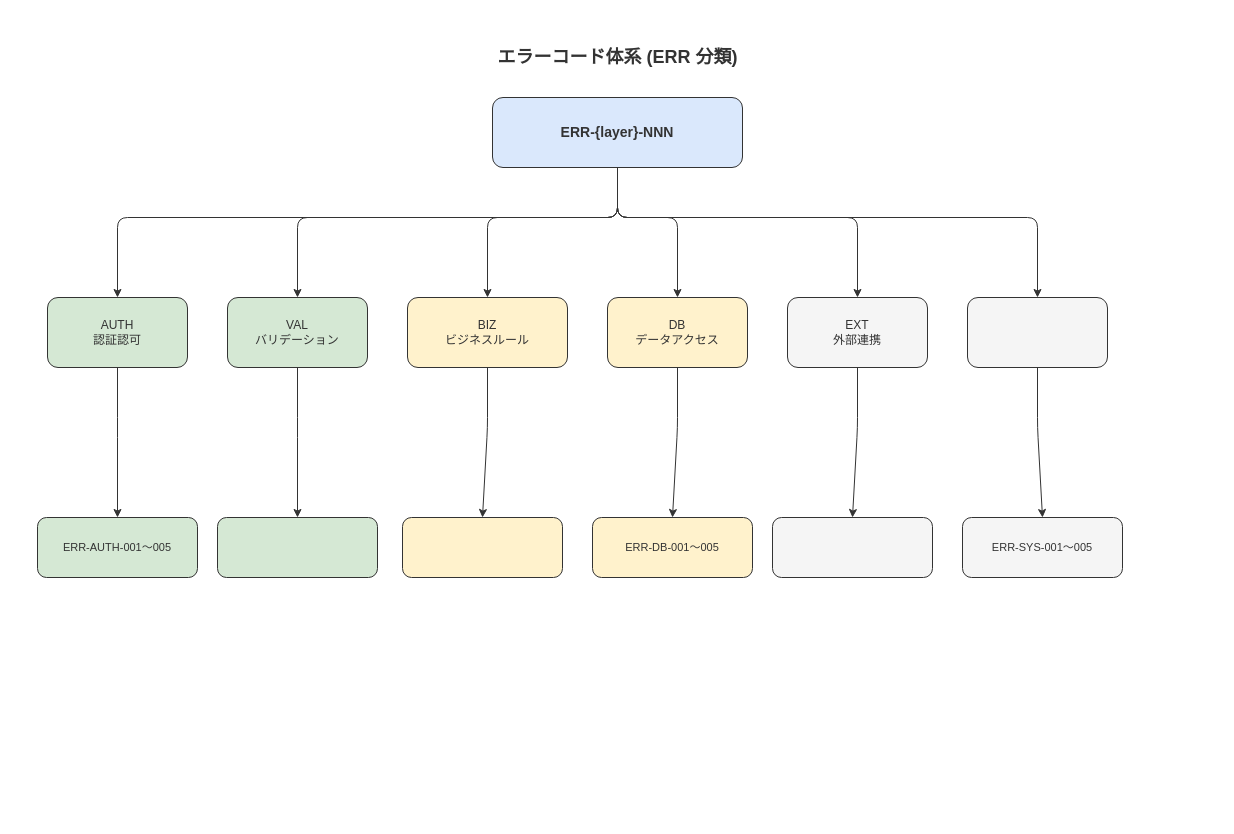
Image size: 1234x834. Some labels were removed from this diagram. Each missing label, with the centre of its shape:
"ERR-BIZ-001〜008" goes at [482,547].
"ERR-EXT-001〜005" goes at [852,547].
"ERR-VAL-001〜005" goes at [297,547].
"SYS システム" goes at [1037,332].
